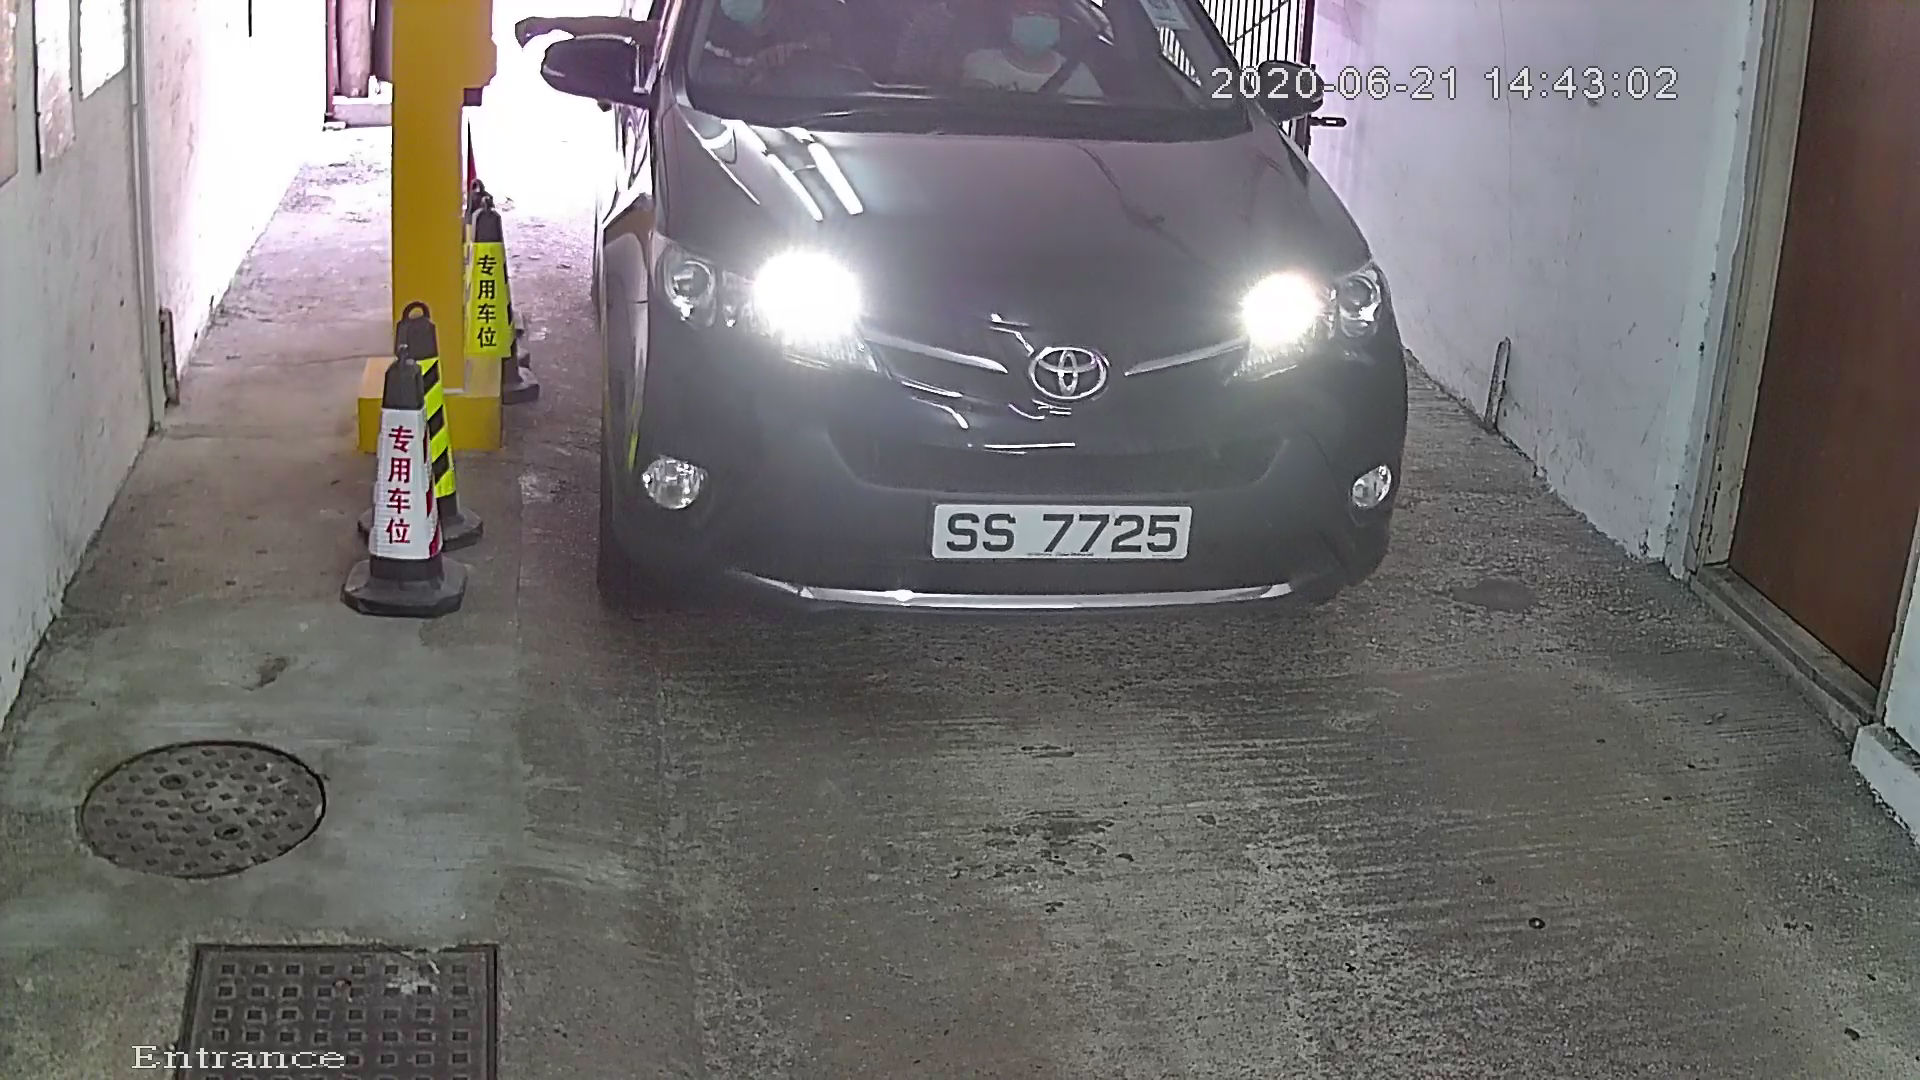privatecar: (522, 1, 1469, 692)
